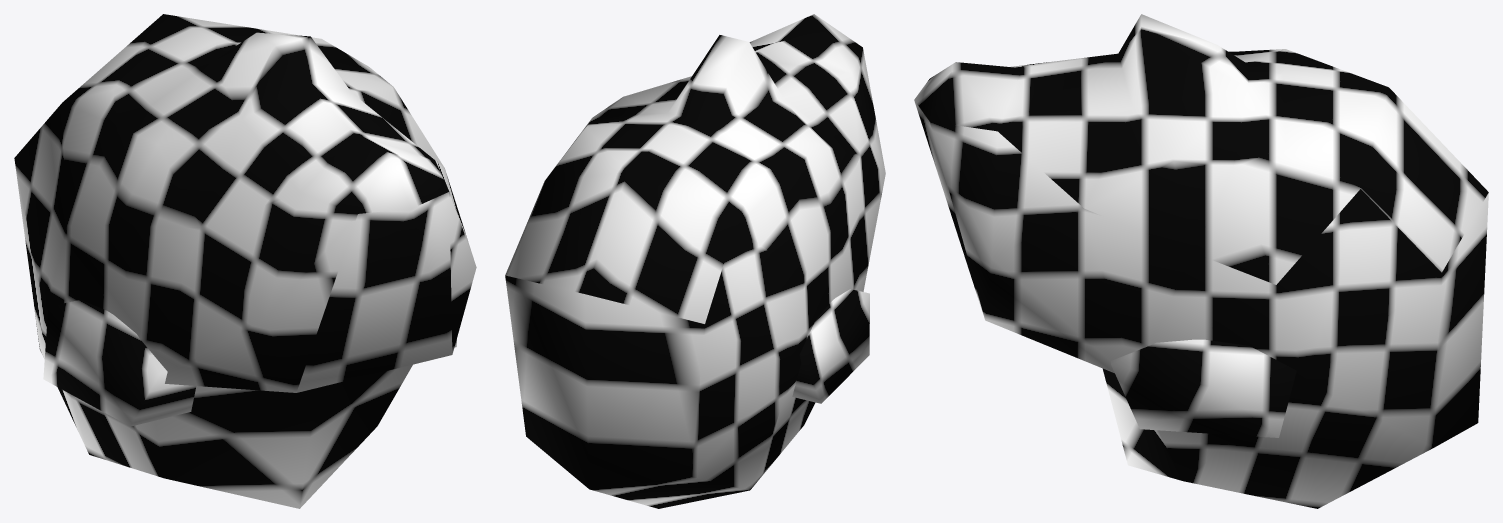
The model's file is infaunhumath0.dae.
The picture shows the model from 3 angles, left to right: view 1: azimuth 30°, elevation 25°; view 2: azimuth 150°, elevation 25°; view 3: azimuth 270°, elevation 25°; orthographic projection. The views are drawn at different scales.
Visible parts, largest first — view 1: face; view 2: face; view 3: face.
Part boxes in pixels (x1,y1,x2,y2): face: (14,14,476,508); face: (505,14,885,508); face: (914,14,1488,508).
Size of the model in its own units: 0.9072 by 1.33 by 1.23.
1 material, 1 textured.
